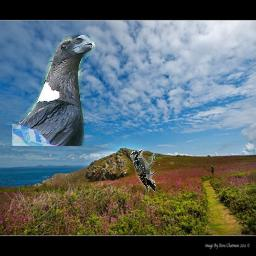Crow: (12, 35, 96, 146)
Woodpecker: (130, 149, 158, 193)
